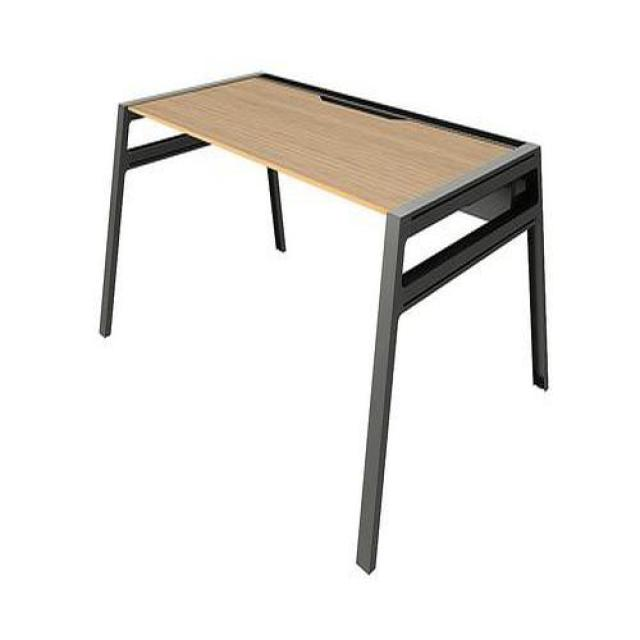table: (104, 74, 545, 573)
